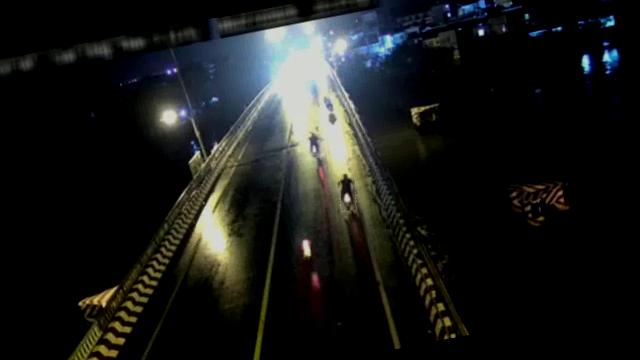Bike: (336, 171, 362, 212), (305, 131, 325, 158), (322, 92, 337, 114)
